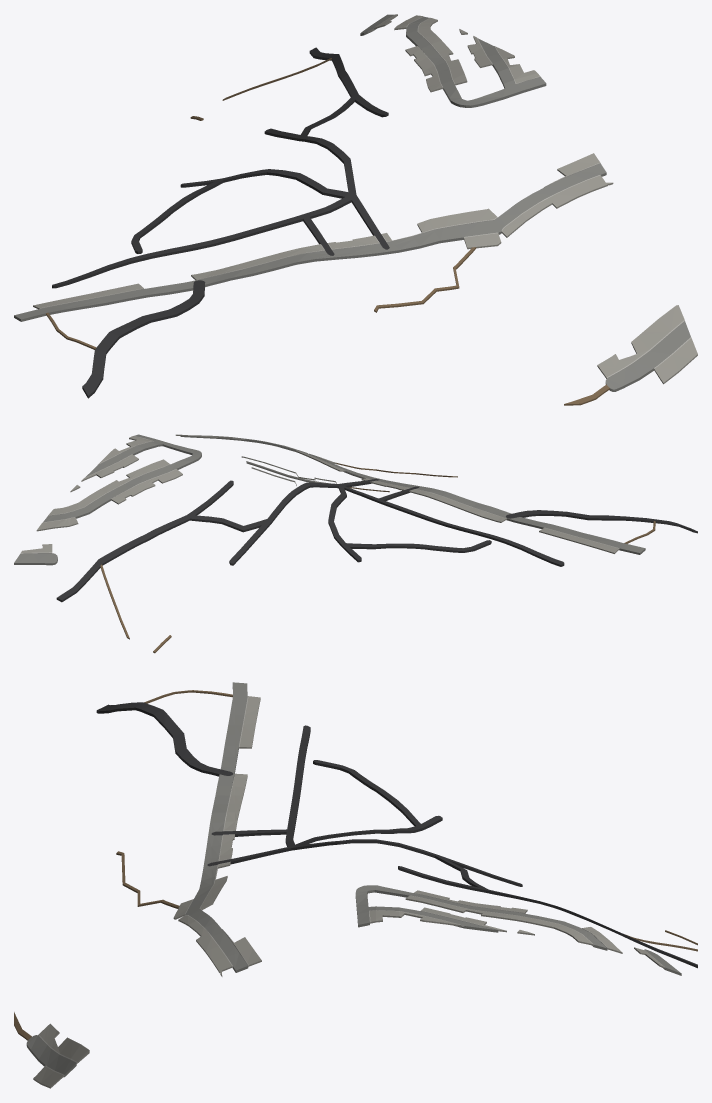
3 views of the same model, one above another, from view 1: azimuth 30°, elevation 25°; view 2: azimuth 150°, elevation 25°; view 3: azimuth 270°, elevation 25° (orthographic). The views are drawn at different scales.
Bounding box in the file's own units: 293 × 85.41 × 292.
